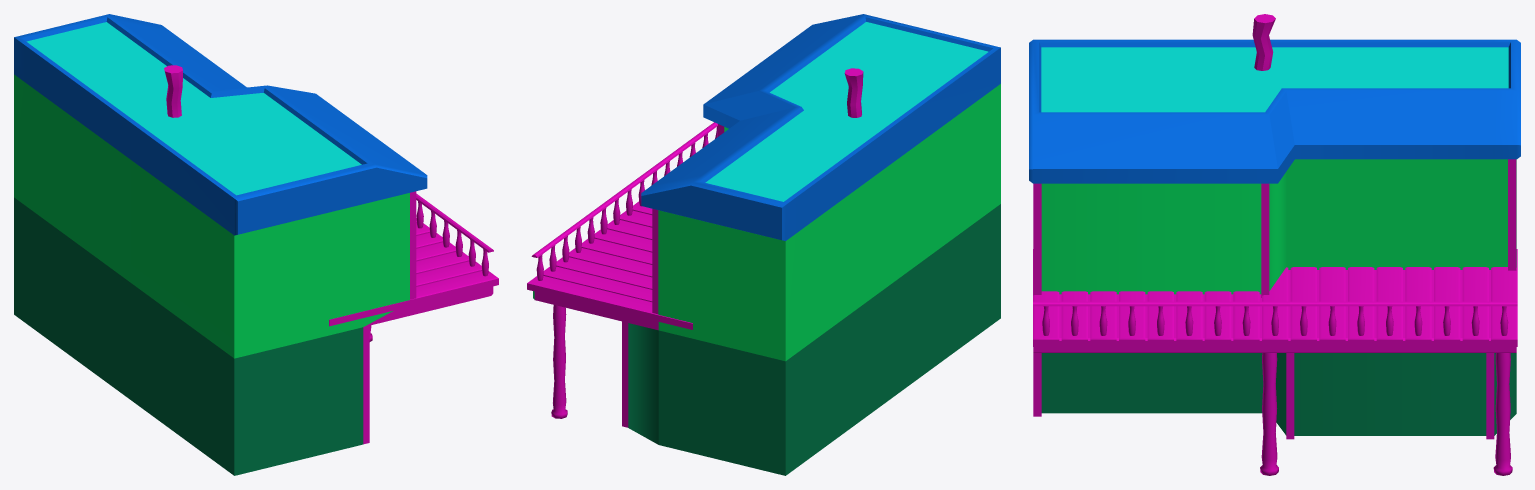
Rendered from ShopB.fbx.
3 views of the same model, side by side, from view 1: azimuth 30°, elevation 25°; view 2: azimuth 150°, elevation 25°; view 3: azimuth 270°, elevation 25° (orthographic). The views are drawn at different scales.
Visible parts, largest first — view 1: MasterBuilding_B; view 2: MasterBuilding_B; view 3: MasterBuilding_B.
Boxes of the visible parts, x1,y1,x2,y2 form: MasterBuilding_B: [14, 14, 498, 475]; MasterBuilding_B: [527, 14, 1000, 475]; MasterBuilding_B: [1029, 14, 1520, 475].
Size of the model in its own units: 32.67 by 37.67 by 47.94.
